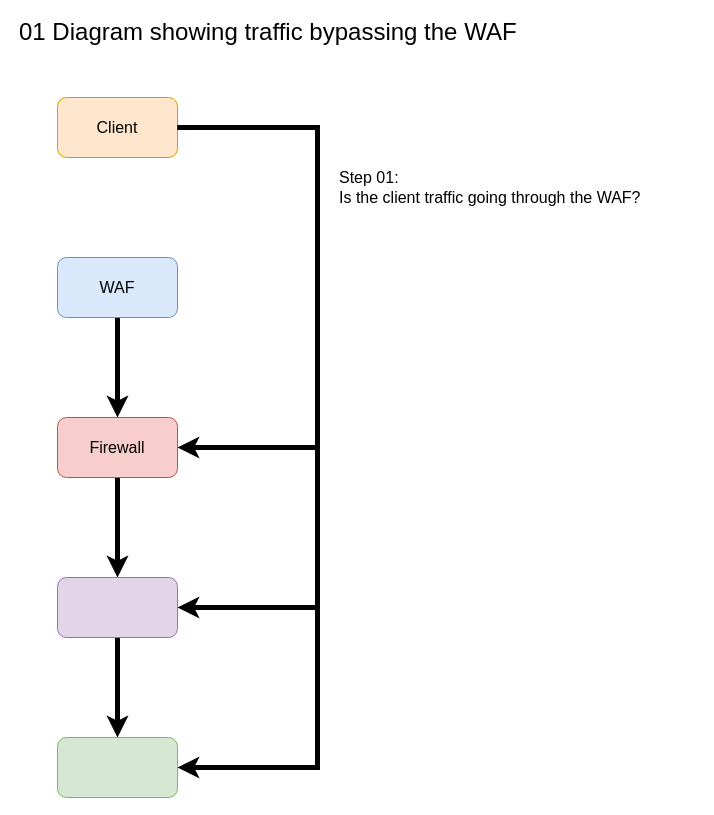
This 714x815 diagram has some shape labels left out. Here are the shapes that lost their labels. From the top down, the box of each, then its label:
(56, 576, 178, 638): Load Balancer
(56, 736, 178, 798): API/Web Application
